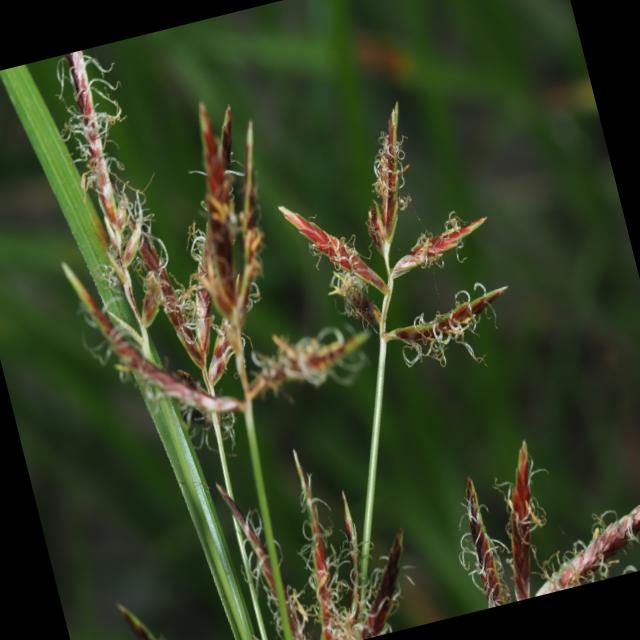cyperus: (15, 0, 640, 640), (14, 0, 518, 462), (200, 423, 446, 640), (425, 393, 640, 613)
